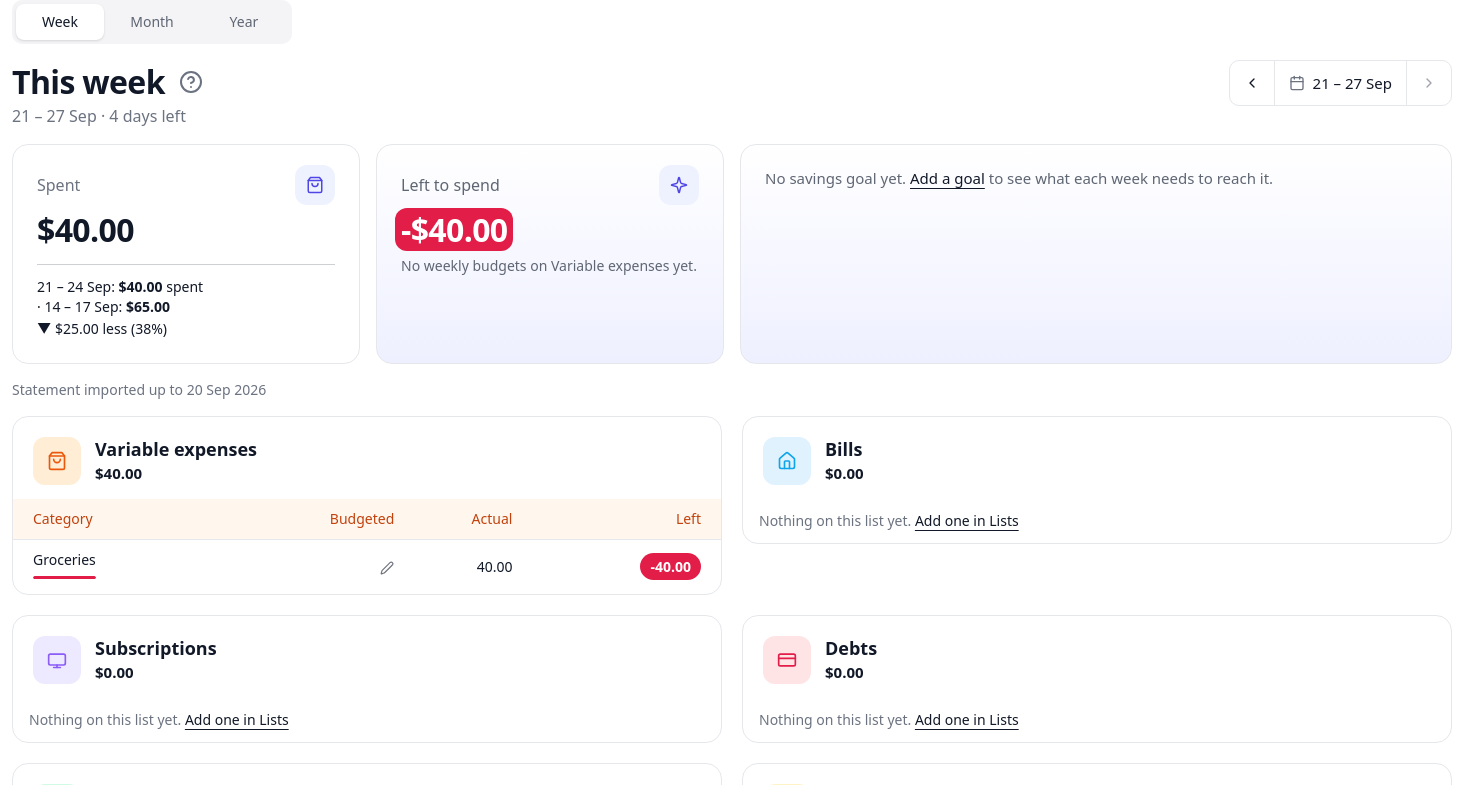
the Week beside last week (D26) › sets a week already over whole against the whole week before
The width and height of the screenshot is (1464, 785).
Step 1. Click the button named "Previous week" → click(1252, 83), box [1230,61,1274,105]
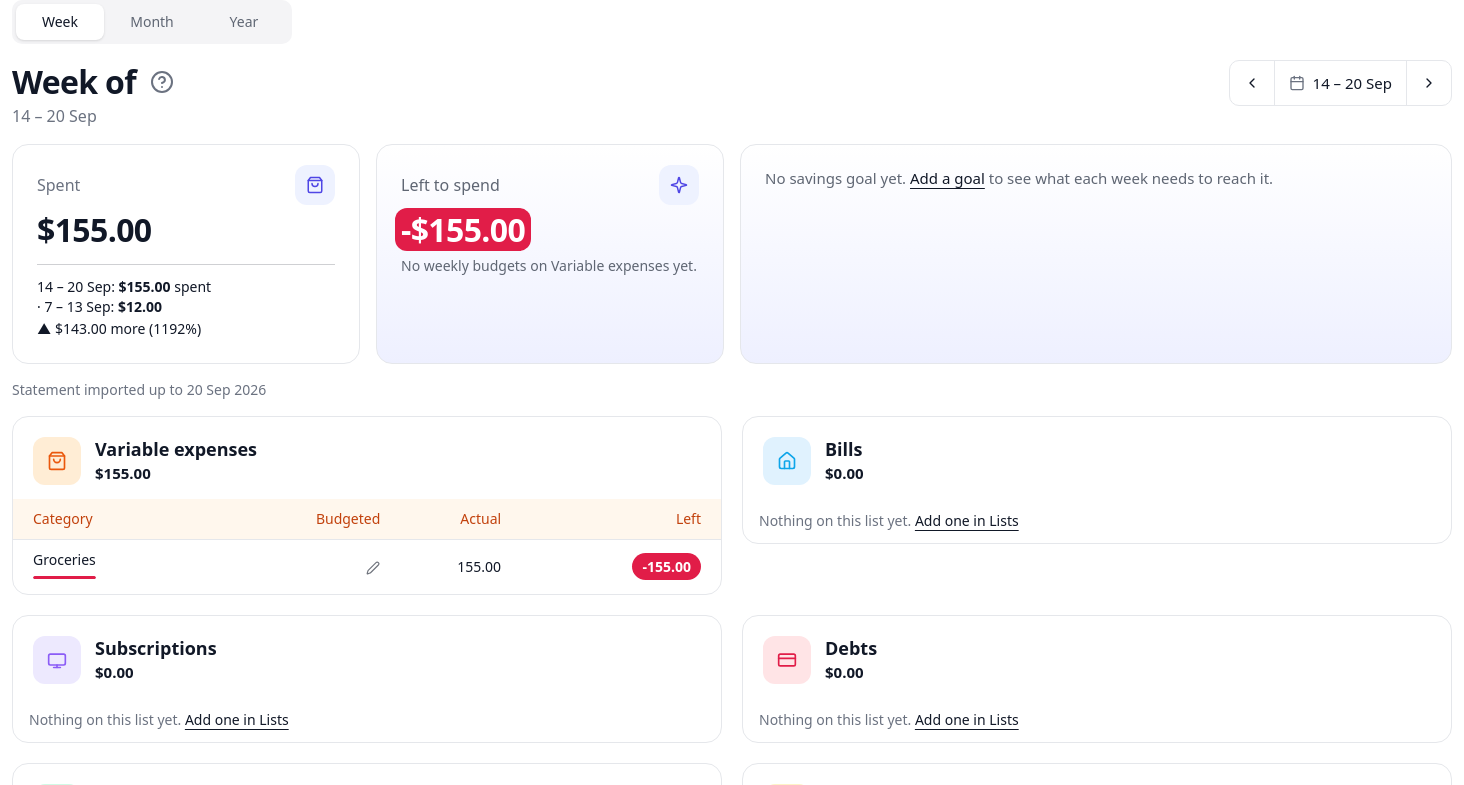
Expected: the element showing "14 – 20 Sep: $155.00 spent · 7 – 13 Sep: $12.00" is shown, [37,277,211,316]
Expected: the heading "Week of" is shown, [12,62,136,102]
